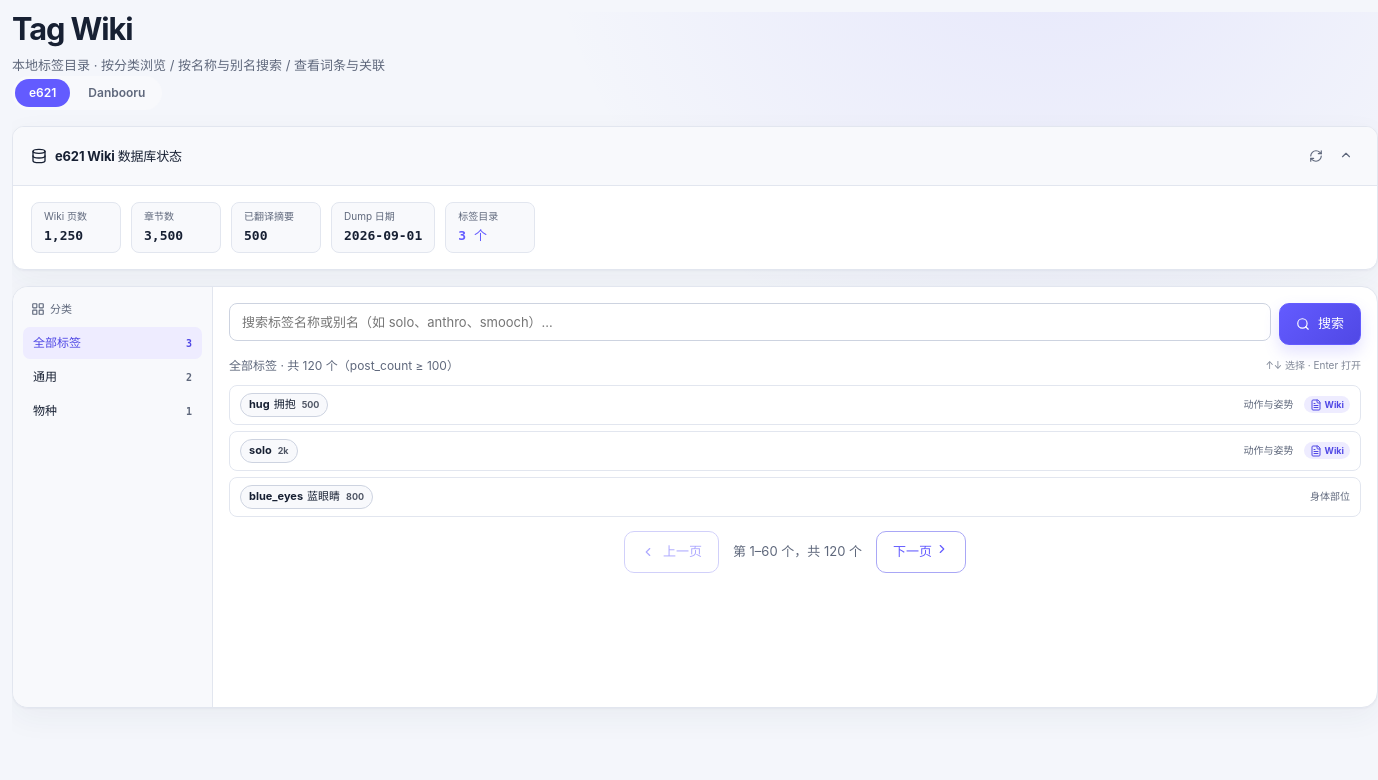
TagWiki catalog page › paginates the directory with the offset parameter
This screenshot has width=1378, height=780.
What coordinates should you click on to do the following:
click the button "下一页"
I would click on:
 (921, 552)
Its box is [876,531,966,573].
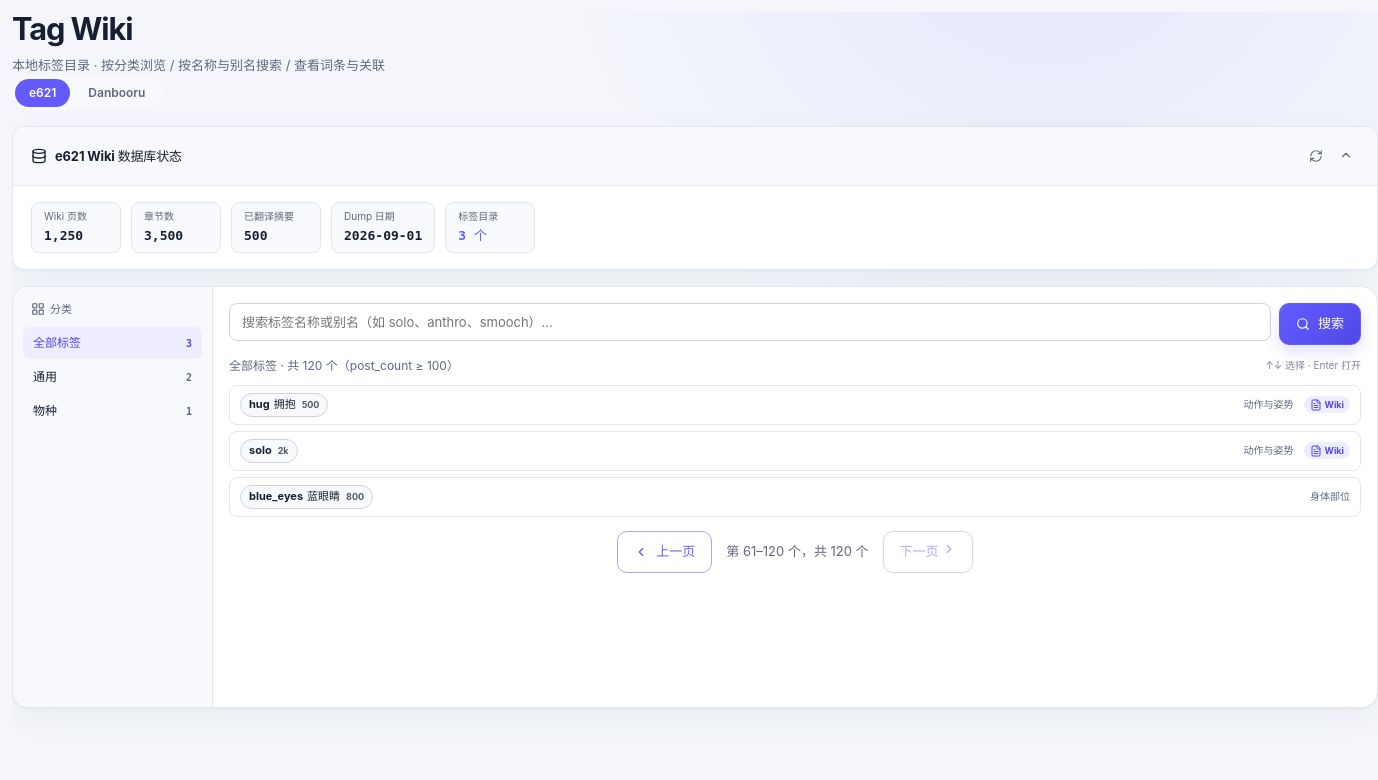
Expected: the text "第 61–120 个，共 120 个" is shown, [726,542,869,562]
